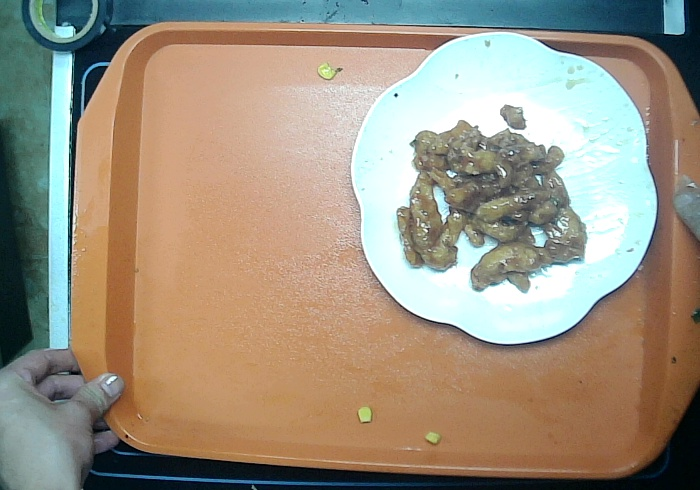HZYJPL-Bai_Se_Hua_Duo_Wan: (349, 29, 660, 348)
